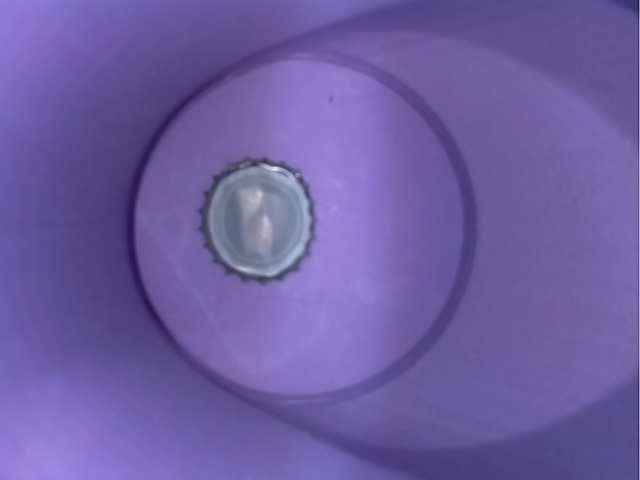capsule: (181, 147, 338, 293)
